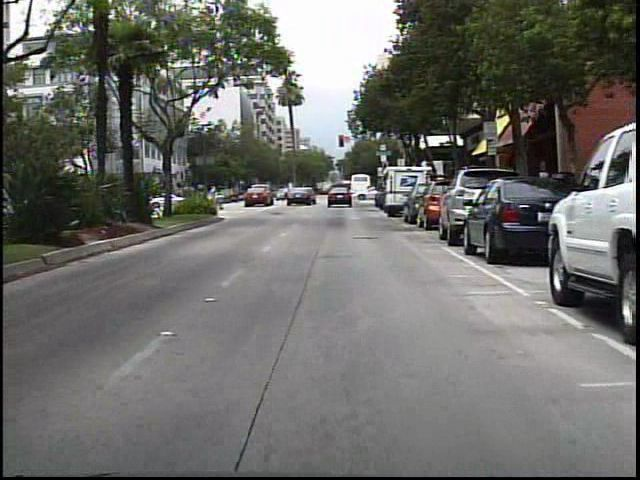person: (295, 183, 309, 205)
